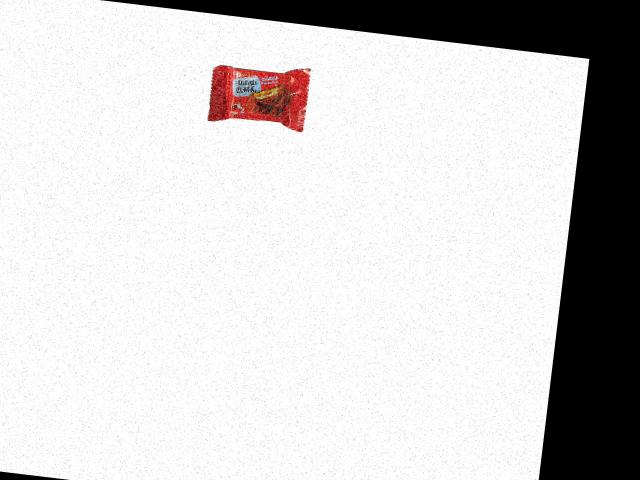chocolate: (198, 50, 312, 131)
